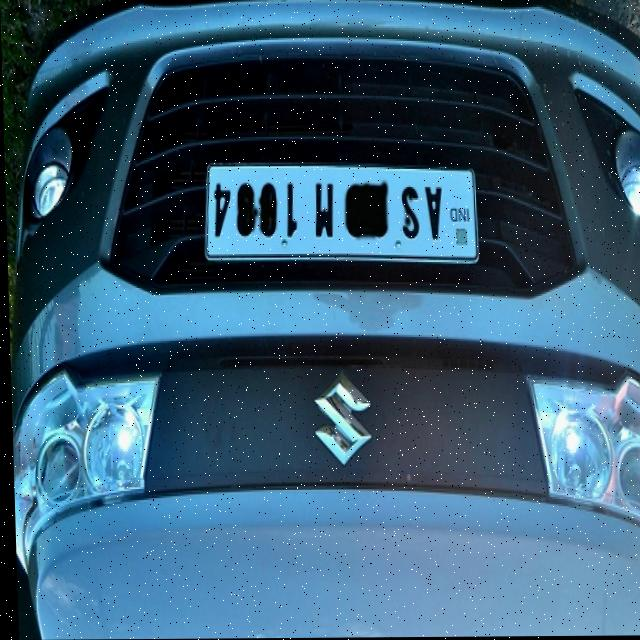plate: (204, 159, 476, 266)
